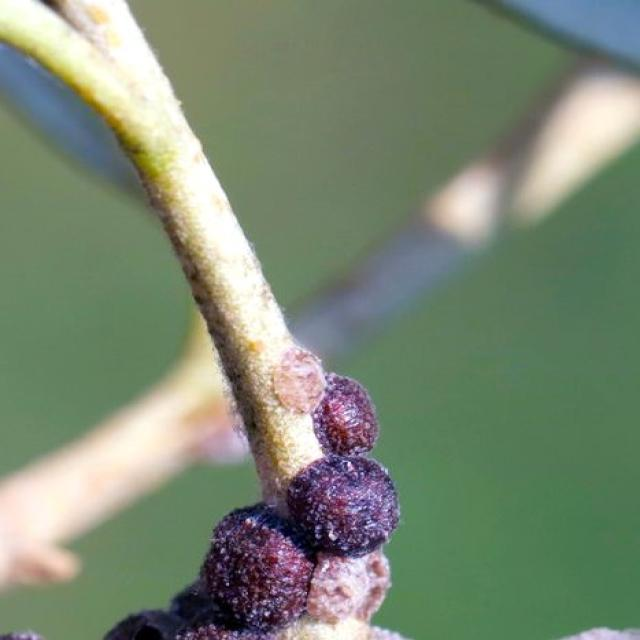Black Scale: (104, 502, 312, 639), (291, 454, 399, 620), (274, 345, 377, 454)
